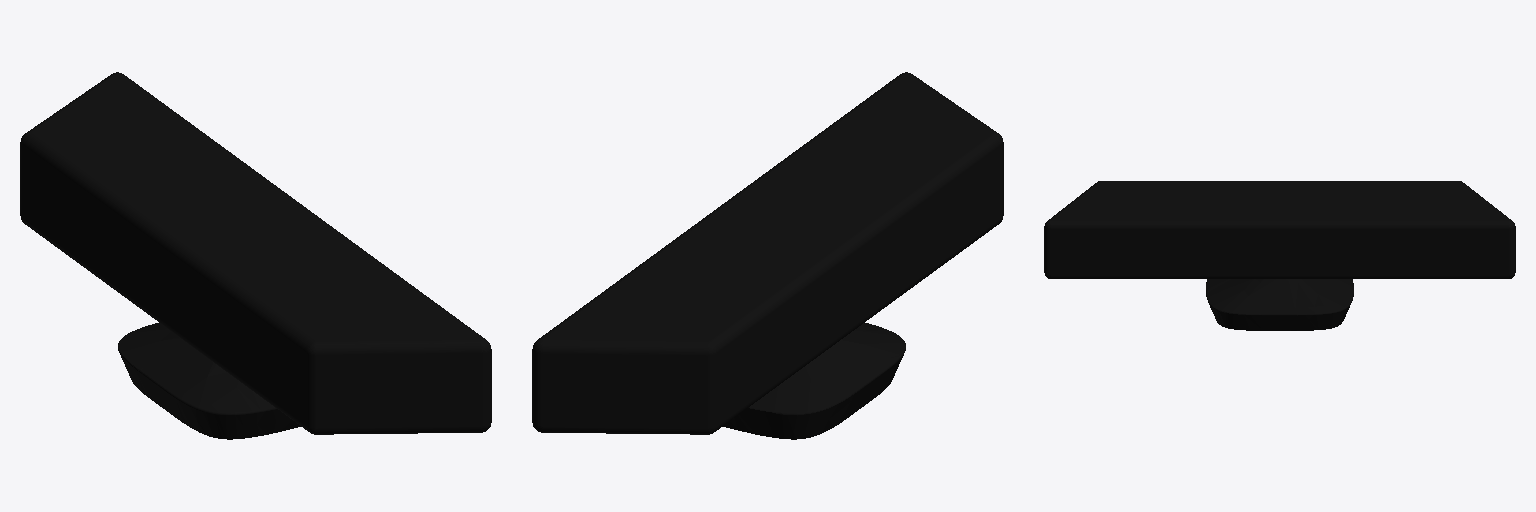
robot.urdf — TestKinect:
<?xml version="1.0" ?>
<!-- =================================================================================== -->
<!-- |    This document was autogenerated by xacro from kinect.urdf.xacro              | -->
<!-- |    EDITING THIS FILE BY HAND IS NOT RECOMMENDED                                 | -->
<!-- =================================================================================== -->
<robot name="TestKinect" xmlns:xacro="http://www.ros.org/wiki/xacro">
  <link name="world"/>
  <!-- Microsoft Kinect / ASUS Xtion PRO Live for simulation -->
  <!--
	  Translation and rotation of camera from its base link
   -->
  <!-- https://github.com/JenniferBuehler/common-sensors -->
  <!-- camera_name has to be unique! -->
  <gazebo reference="camera_depth_frame">
    <sensor name="camera1" type="depth">
      <always_on>true</always_on>
      <update_rate>20.0</update_rate>
      <camera>
        <horizontal_fov>1.0471975512</horizontal_fov>
        <image>
          <format>R8G8B8</format>
          <width>640</width>
          <height>480</height>
        </image>
        <clip>
          <near>0.05</near>
          <far>8.0</far>
        </clip>
      </camera>
      <plugin filename="libgazebo_ros_openni_kinect.so" name="camera_depth_frame_kinect_controller">
        <baseline>0.1</baseline>
        <alwaysOn>true</alwaysOn>
        <updateRate>10</updateRate>
        <cameraName>camera1</cameraName>
        <imageTopicName>depth/image_raw</imageTopicName>
        <cameraInfoTopicName>depth/camera_info</cameraInfoTopicName>
        <depthImageTopicName>depth/image_raw</depthImageTopicName>
        <depthImageCameraInfoTopicName>depth/camera_info</depthImageCameraInfoTopicName>
        <pointCloudTopicName>depth/points</pointCloudTopicName>
        <frameName>camera_depth_optical_frame</frameName>
        <pointCloudCutoff>0.3</pointCloudCutoff>
        <distortion_k1>0.0</distortion_k1>
        <distortion_k2>0.0</distortion_k2>
        <distortion_k3>0.0</distortion_k3>
        <distortion_t1>0.0</distortion_t1>
        <distortion_t2>0.0</distortion_t2>
        <!--
		<CxPrime>0</CxPrime>
		<Cx>0</Cx>
		<Cy>0</Cy>
		<focalLength>0</focalLength>
		<hackBaseline>0</hackBaseline>
-->
      </plugin>
    </sensor>
  </gazebo>
  <material name="black">
    <color rgba=".1 .1 .1 1"/>
  </material>
  <!-- Parameterised in part by the values in kinect_properties.urdf.xacro -->
  <joint name="camera_rgb_joint" type="fixed">
    <origin rpy="0 0 0" xyz="0 0 0"/>
    <parent link="world"/>
    <child link="camera_rgb_frame"/>
  </joint>
  <link name="camera_rgb_frame">
    <inertial>
      <mass value="0.001"/>
      <origin xyz="0 0 0"/>
      <inertia ixx="0.0001" ixy="0.0" ixz="0.0" iyy="0.0001" iyz="0.0" izz="0.0001"/>
    </inertial>
  </link>
  <joint name="camera_rgb_optical_joint" type="fixed">
    <origin rpy="-1.57079632679 0 -1.57079632679" xyz="0 0 0"/>
    <parent link="camera_rgb_frame"/>
    <child link="camera_rgb_optical_frame"/>
  </joint>
  <link name="camera_rgb_optical_frame">
    <inertial>
      <mass value="0.001"/>
      <origin xyz="0 0 0"/>
      <inertia ixx="0.0001" ixy="0.0" ixz="0.0" iyy="0.0001" iyz="0.0" izz="0.0001"/>
    </inertial>
  </link>
  <joint name="camera_joint" type="fixed">
    <origin rpy="0 0 0" xyz="-0.031 -0.0 -0.016"/>
    <parent link="camera_rgb_frame"/>
    <child link="camera_link"/>
  </joint>
  <link name="camera_link">
    <visual>
      <origin rpy="0 0 1.57079632679" xyz="0 0 0"/>
      <geometry>
        <mesh filename="kinect.dae"/>
      </geometry>
      <material name="black"/>
    </visual>
    <collision>
      <origin rpy="0 0 0" xyz="0.0 0.0 0.0"/>
      <geometry>
        <box size="0.07271 0.27794 0.073"/>
      </geometry>
    </collision>
    <inertial>
      <mass value="0.001"/>
      <origin xyz="0 0 0"/>
      <inertia ixx="0.0001" ixy="0.0" ixz="0.0" iyy="0.0001" iyz="0.0" izz="0.0001"/>
    </inertial>
  </link>
  <!-- The fixed joints & links below are usually published by static_transformers launched by the OpenNi launch
		 files. However, for Gazebo simulation we need them, so we add them here.
		 (Hence, don't publish them additionally!) -->
  <joint name="camera_depth_joint" type="fixed">
    <origin rpy="0 0 0" xyz="0 0.0 0"/>
    <parent link="camera_rgb_frame"/>
    <child link="camera_depth_frame"/>
  </joint>
  <link name="camera_depth_frame">
    <inertial>
      <mass value="0.001"/>
      <origin xyz="0 0 0"/>
      <inertia ixx="0.0001" ixy="0.0" ixz="0.0" iyy="0.0001" iyz="0.0" izz="0.0001"/>
    </inertial>
  </link>
  <joint name="camera_depth_optical_joint" type="fixed">
    <origin rpy="-1.57079632679 0 -1.57079632679" xyz="0 0 0"/>
    <parent link="camera_depth_frame"/>
    <child link="camera_depth_optical_frame"/>
  </joint>
  <link name="camera_depth_optical_frame">
    <inertial>
      <mass value="0.001"/>
      <origin xyz="0 0 0"/>
      <inertia ixx="0.0001" ixy="0.0" ixz="0.0" iyy="0.0001" iyz="0.0" izz="0.0001"/>
    </inertial>
  </link>
</robot>

--- Render facts (derived) ---
Views: 3 orthographic renders of the robot side by side, from view 1: azimuth 30°, elevation 25°; view 2: azimuth 150°, elevation 25°; view 3: azimuth 270°, elevation 25°.
Robot: TestKinect — 6 links, 5 joints (5 fixed); root link world; default pose: every joint at zero.
Links seen in each view (by area): view 1: camera_link; view 2: camera_link; view 3: camera_link.
Boxes of the visible links, <box> form: camera_link: <box>20,72,491,439</box>; camera_link: <box>532,72,1003,439</box>; camera_link: <box>1044,181,1515,330</box>.
Size in the robot's own frame: 0.0725 by 0.2786 by 0.07 metres.
1 mesh visuals loaded from 1 distinct referenced files (1 Collada DAE).